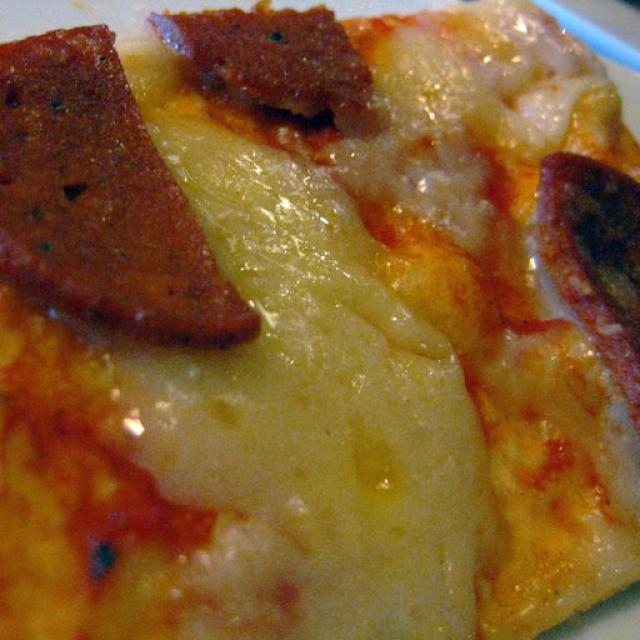Cheese: (175, 366, 477, 634), (266, 188, 446, 354), (157, 114, 338, 274), (393, 25, 566, 132)
Pepperoni: (0, 41, 264, 339), (158, 3, 377, 135), (539, 143, 640, 391)
Pizza: (0, 0, 640, 640)
